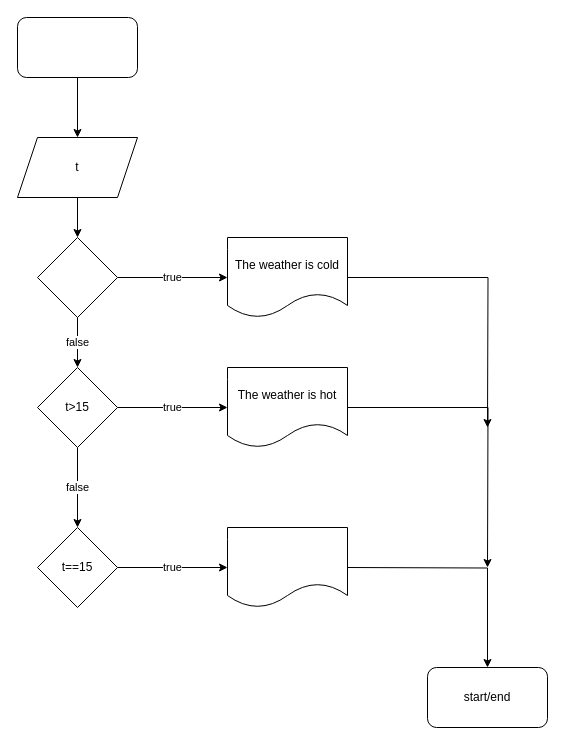
The diagram is 565 pixels wide and 745 high, and some of its shapes have lost their labels. The centre of each missing label's shape, as x and y in pixels:
"start" belongs at (x=77, y=47).
"t<15" belongs at (x=77, y=277).
"The weather is equal to 15" belongs at (x=287, y=567).
